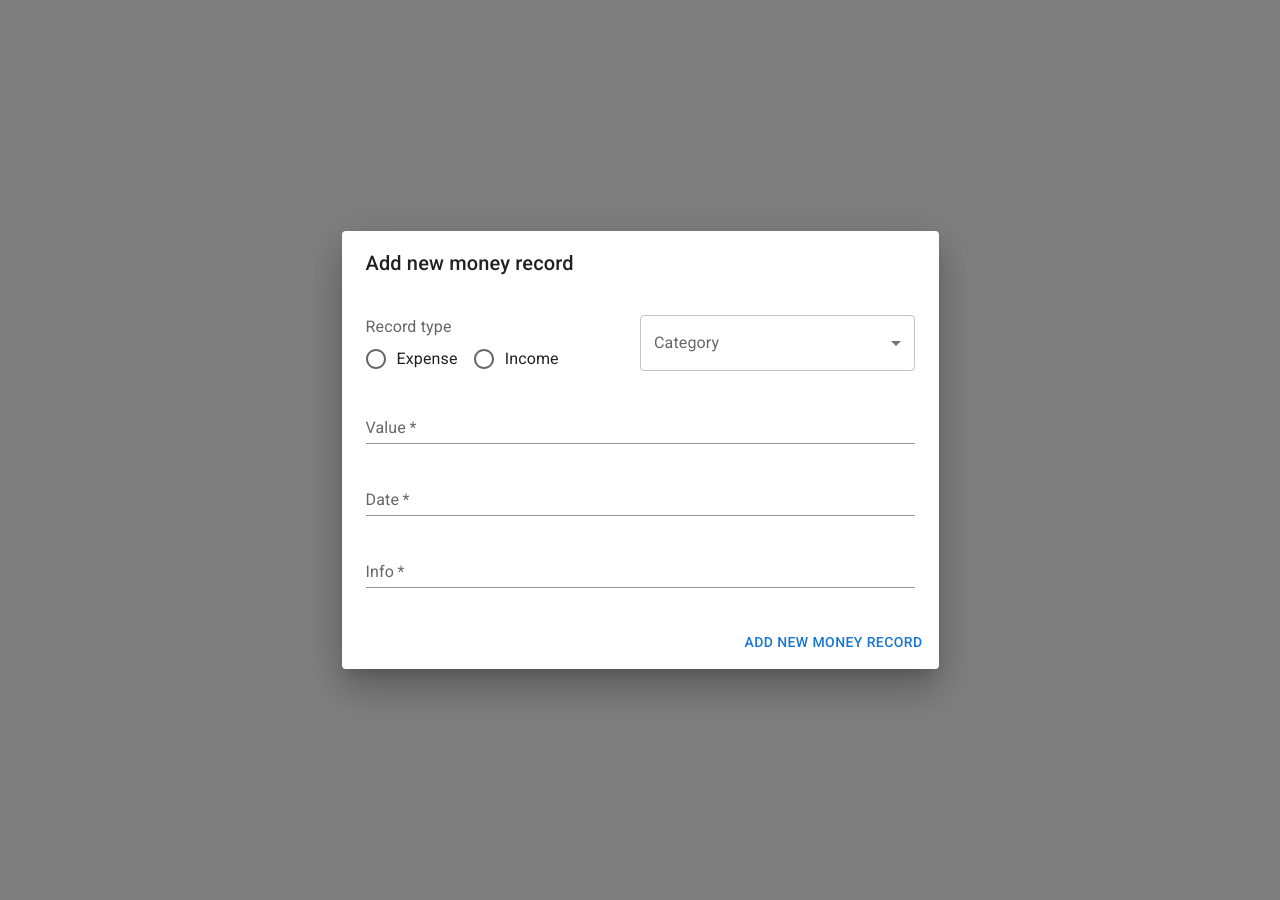
Test: MoneyRecordForm › Form Validation › shows error for zero value
This screenshot has width=1280, height=900.
Type "0" into the field labelled "Value *".
click(640, 428); type("0")  # box [366,412,914,444]
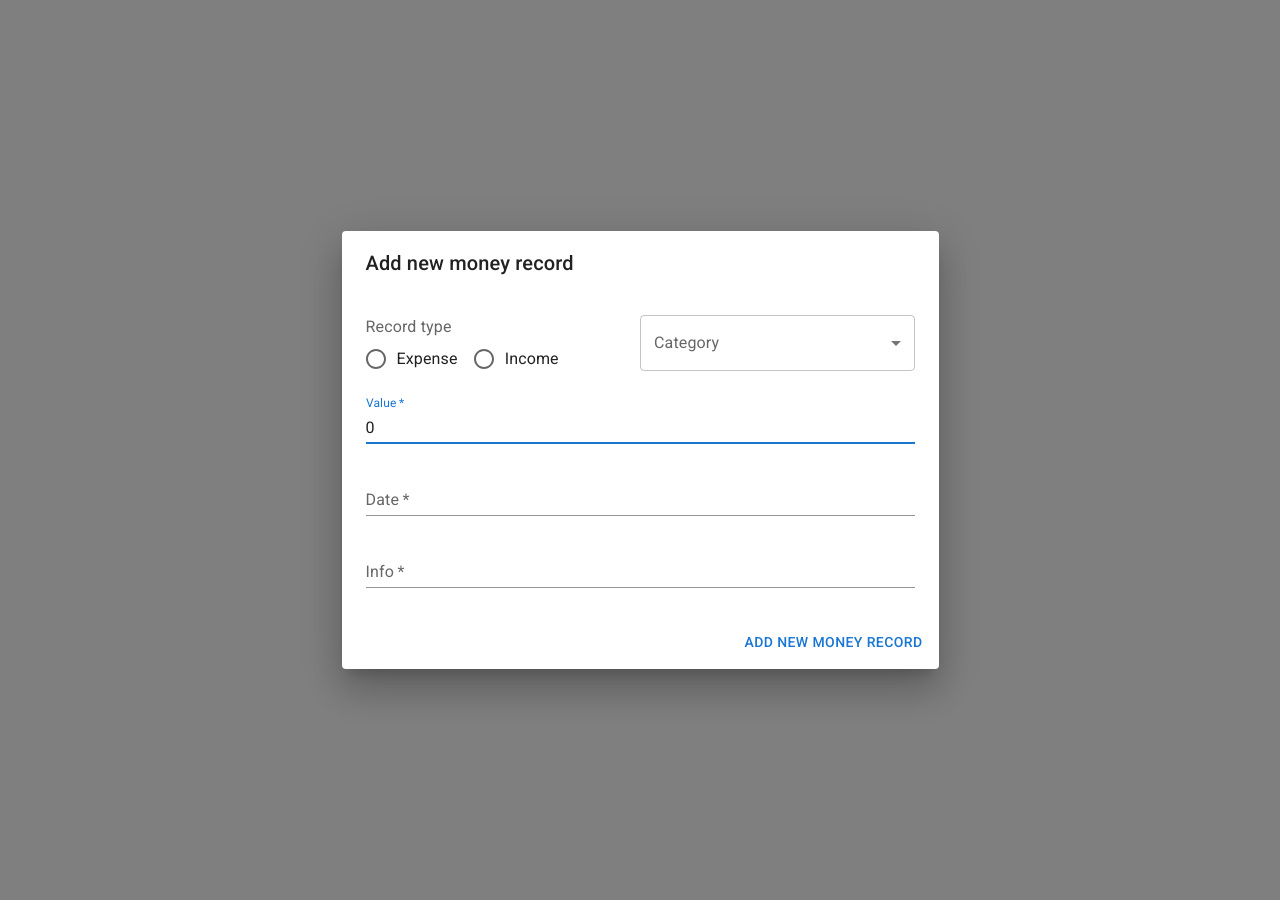
Type "2024-01-01" into the field labelled "Date *".
click(640, 500); type("2024-01-01")  # box [366,484,914,516]
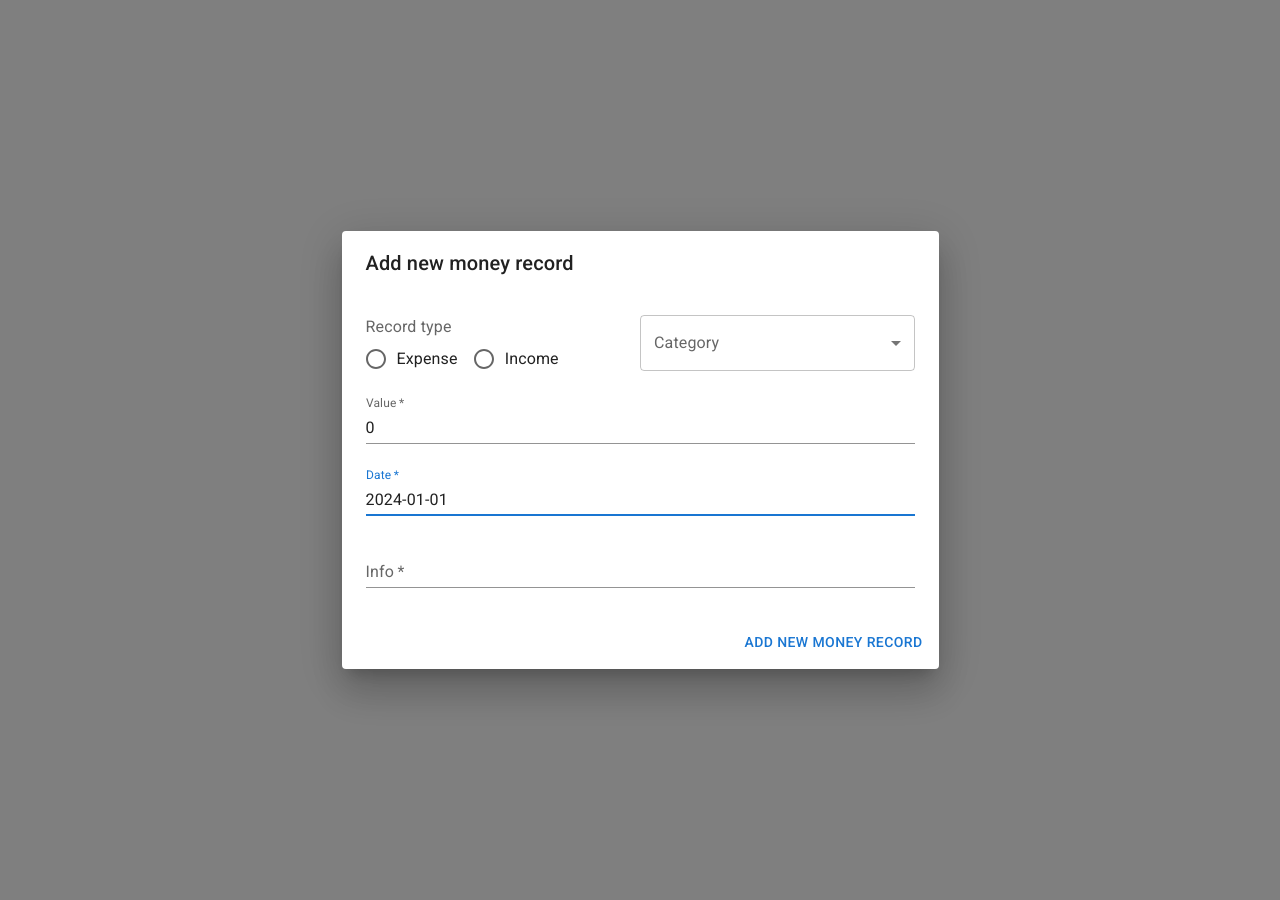
Type "Coffee" into the field labelled "Info *".
click(640, 572); type("Coffee")  # box [366,556,914,588]
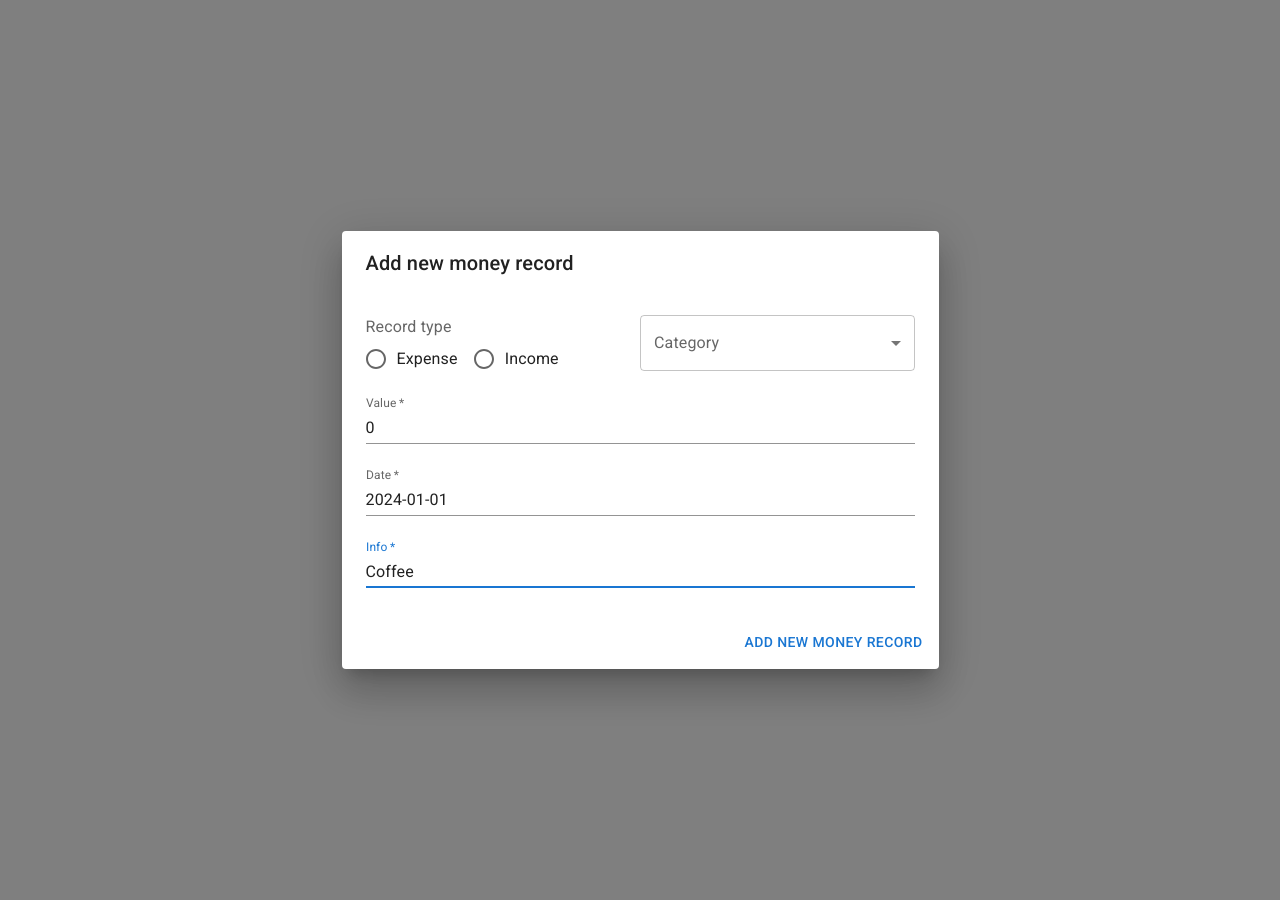
Click the button "Add new money record".
click(834, 643)  # box [737,624,930,661]
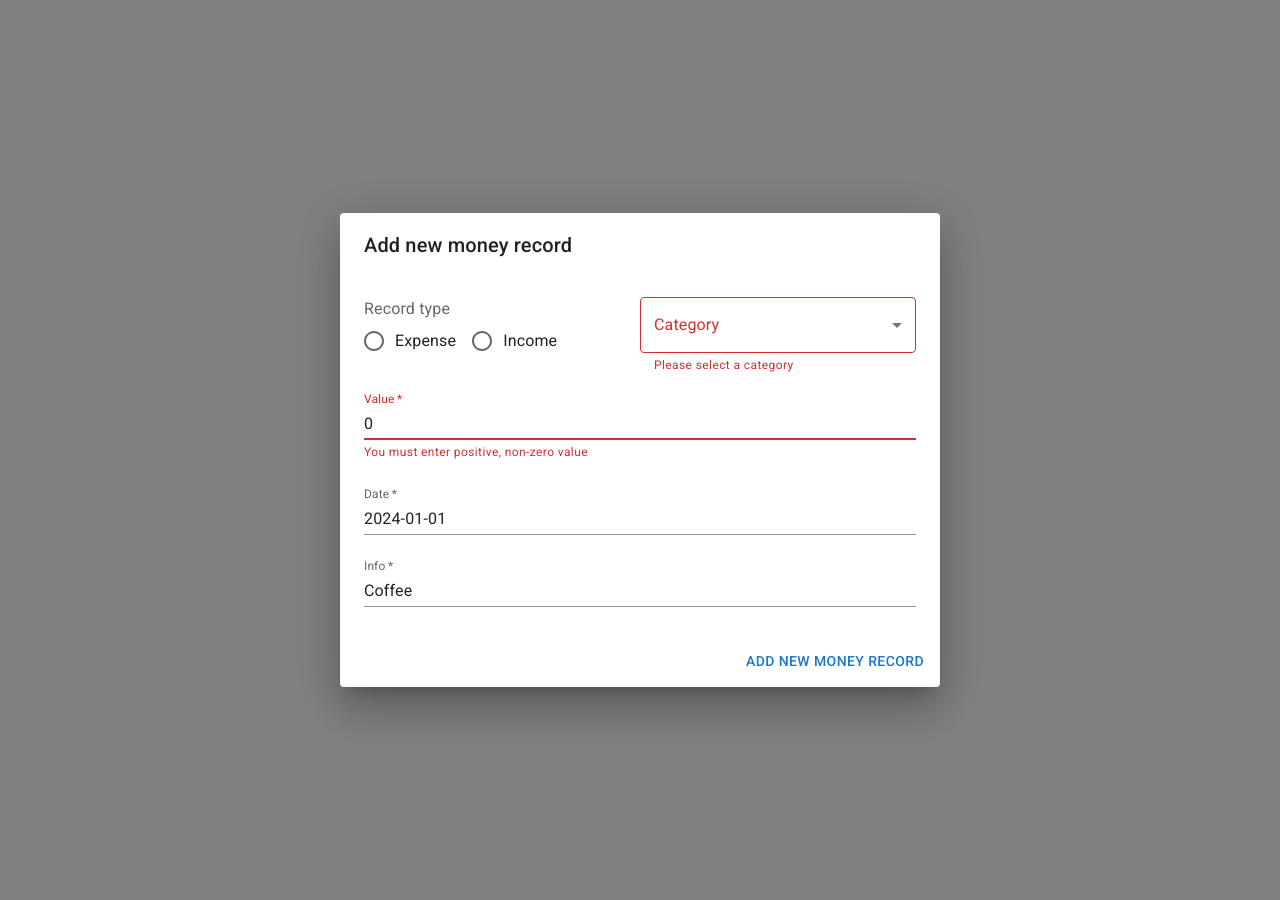
Check: the text "You must enter positive, non-zero value" is shown, box [364,445,588,459]
